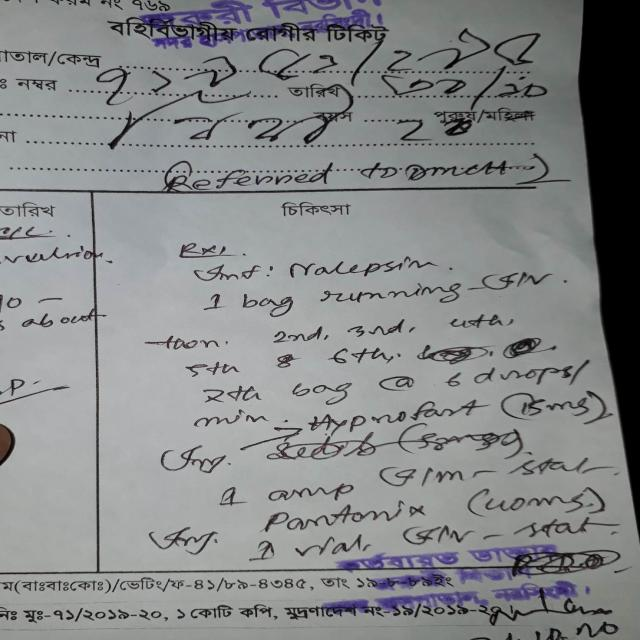Hypnofast: (288, 399, 488, 433)
Nalepsin: (282, 252, 441, 292)
Pantonix: (249, 498, 440, 533)
